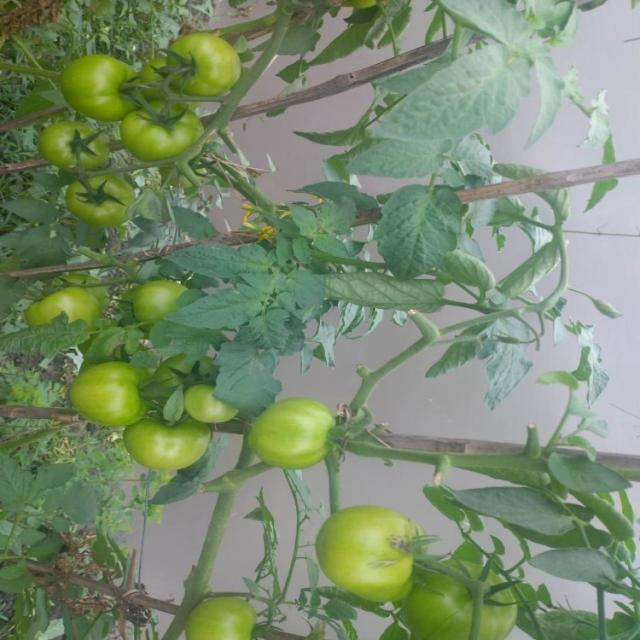tomato: (392, 541, 527, 640), (310, 491, 418, 599), (247, 389, 354, 483), (134, 410, 226, 489), (71, 359, 151, 441), (119, 95, 199, 171), (165, 27, 245, 103), (168, 355, 239, 433), (54, 176, 137, 241), (59, 46, 136, 116), (32, 121, 106, 180), (23, 282, 105, 324), (185, 588, 248, 640), (129, 273, 184, 321)
